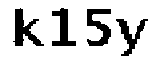1: (47, 5, 79, 50)
5: (85, 6, 112, 50)
k: (10, 6, 45, 49)
y: (113, 16, 148, 60)
